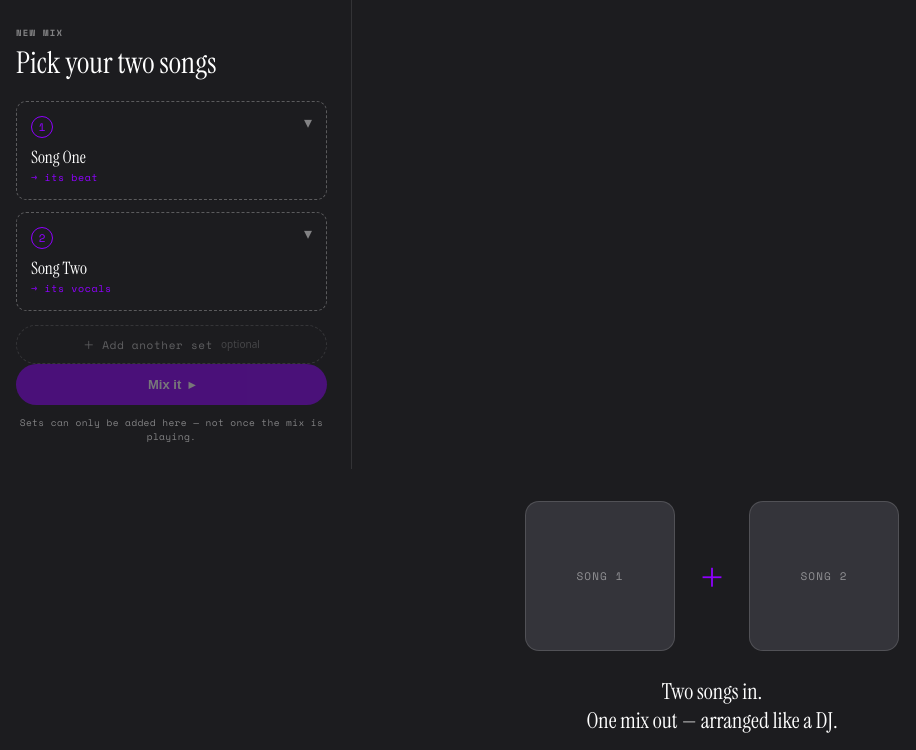
an empty library says so instead of showing a blank dropdown
Click the button with test id "song-slot-2" at (59, 268), box [16,212,327,310]
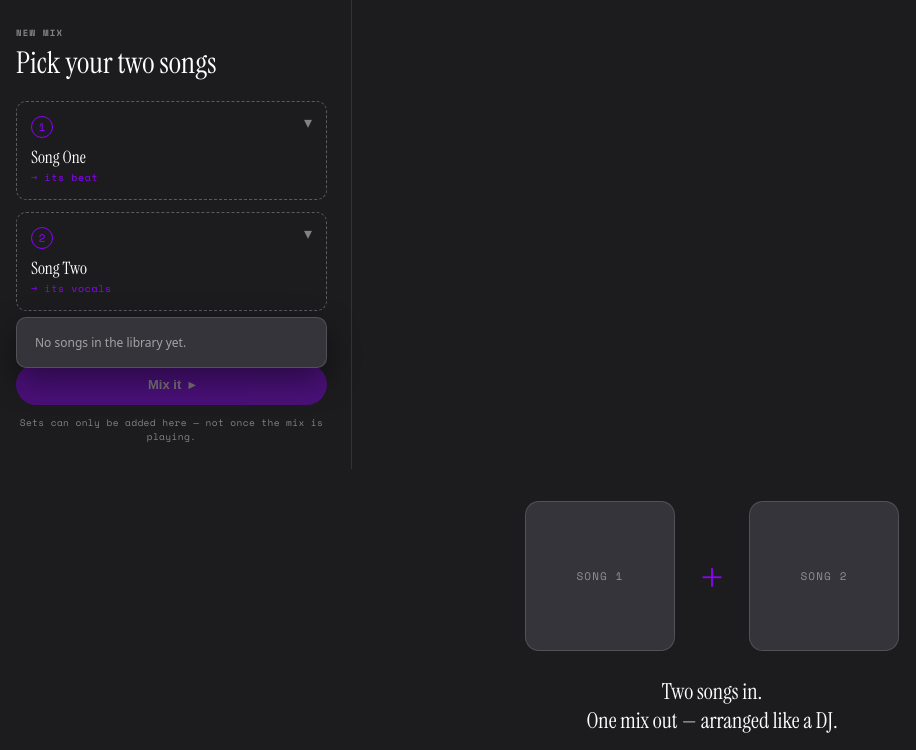
Expected: the text "No songs in the library yet." is shown, [35,334,186,350]
